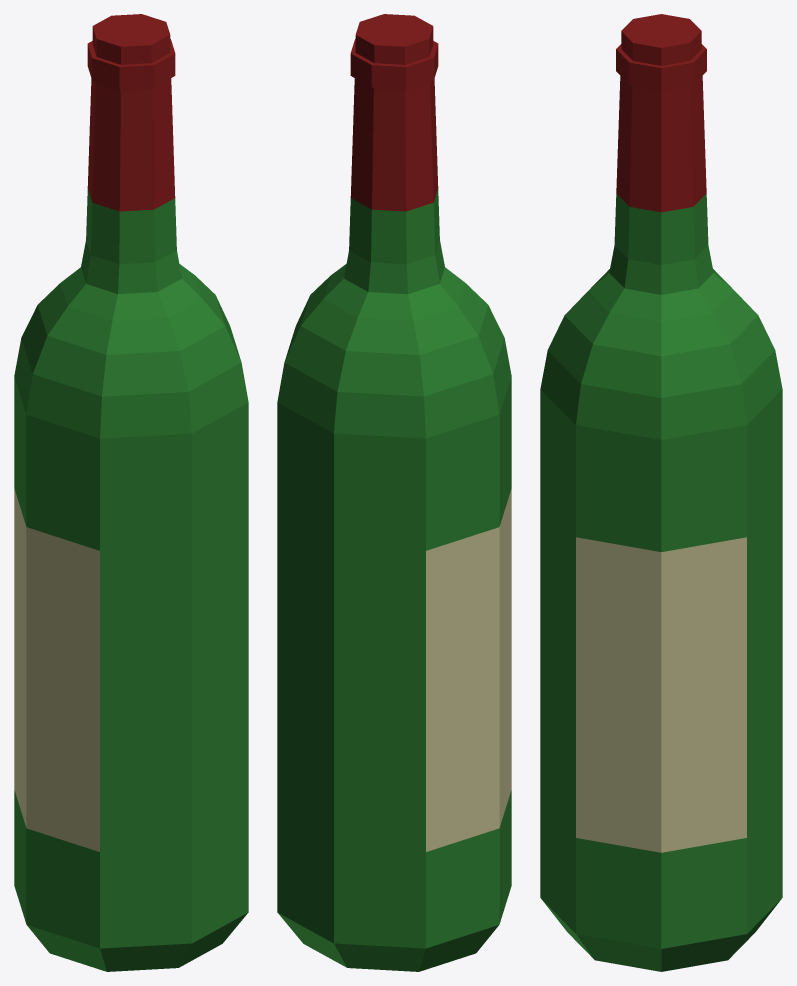
Rendered from sarap sisesi.fbx.
The picture shows the model from 3 angles, left to right: view 1: azimuth 30°, elevation 25°; view 2: azimuth 150°, elevation 25°; view 3: azimuth 270°, elevation 25°; orthographic projection.
Parts seen in each view (by area): view 1: Cylinder; view 2: Cylinder; view 3: Cylinder.
Boxes of the visible parts, x1,y1,x2,y2 form: Cylinder: [14, 14, 248, 971]; Cylinder: [277, 14, 511, 971]; Cylinder: [540, 14, 782, 971].
Size of the model in its own units: 62.03 by 255 by 62.03.
